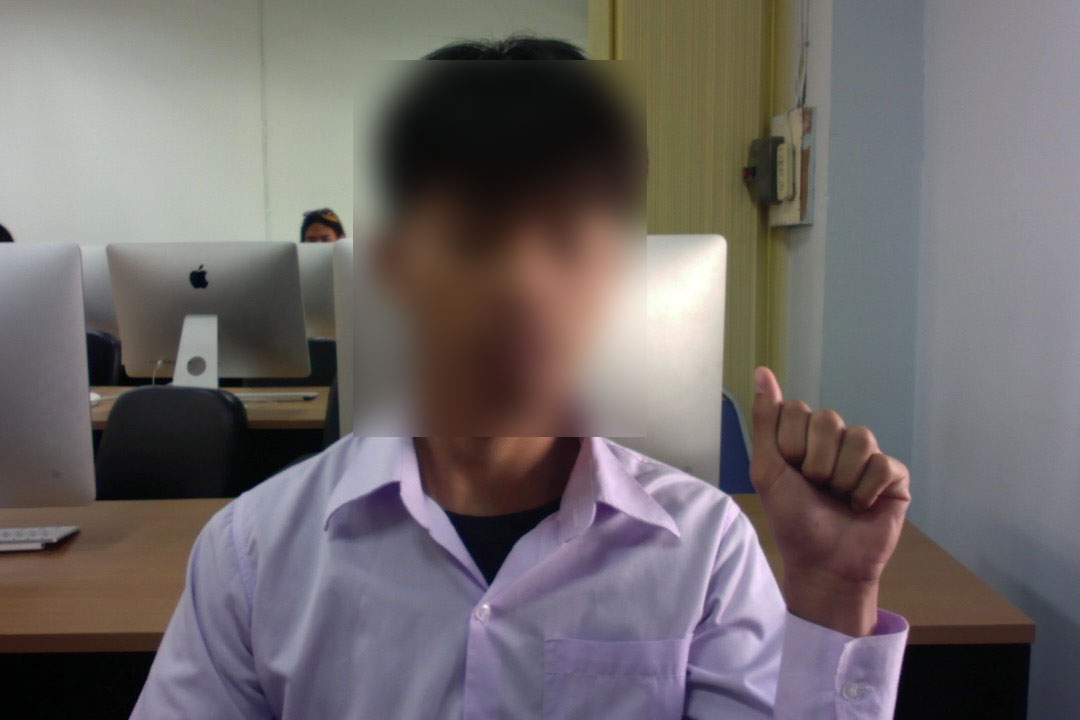or: (739, 351, 918, 613)
